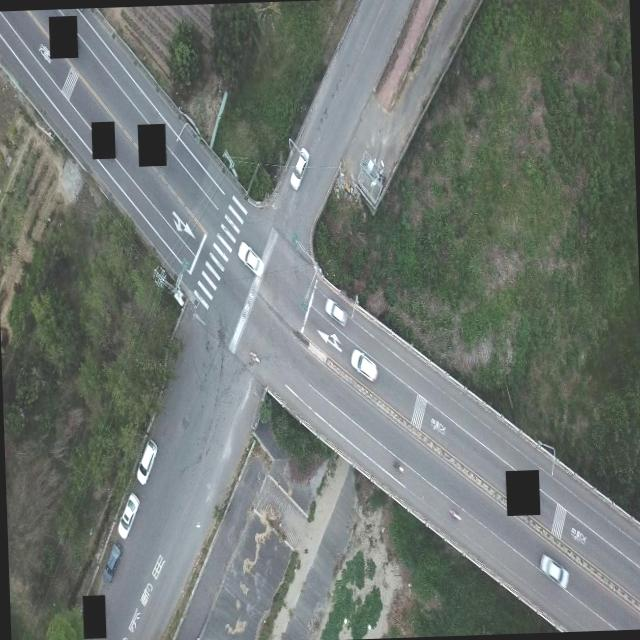bike: (250, 349, 260, 364)
car: (538, 552, 570, 590), (134, 436, 158, 486), (116, 490, 140, 540), (236, 239, 264, 277), (350, 347, 378, 383), (288, 146, 310, 190), (102, 540, 124, 583), (323, 296, 348, 327)
